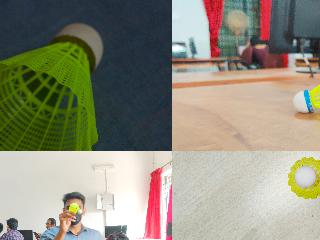shuttlecock: (0, 22, 104, 150), (286, 156, 319, 199), (292, 62, 319, 114), (68, 202, 82, 214)
